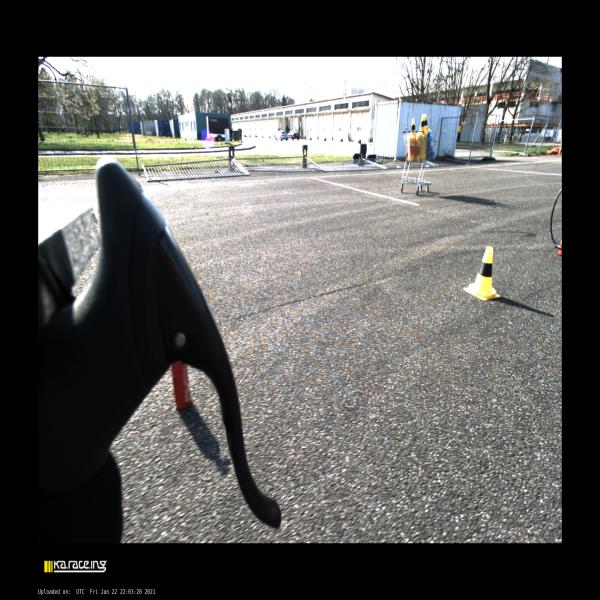yellow_cone: (464, 246, 500, 300), (419, 114, 425, 130), (410, 118, 416, 132), (426, 114, 430, 131)
